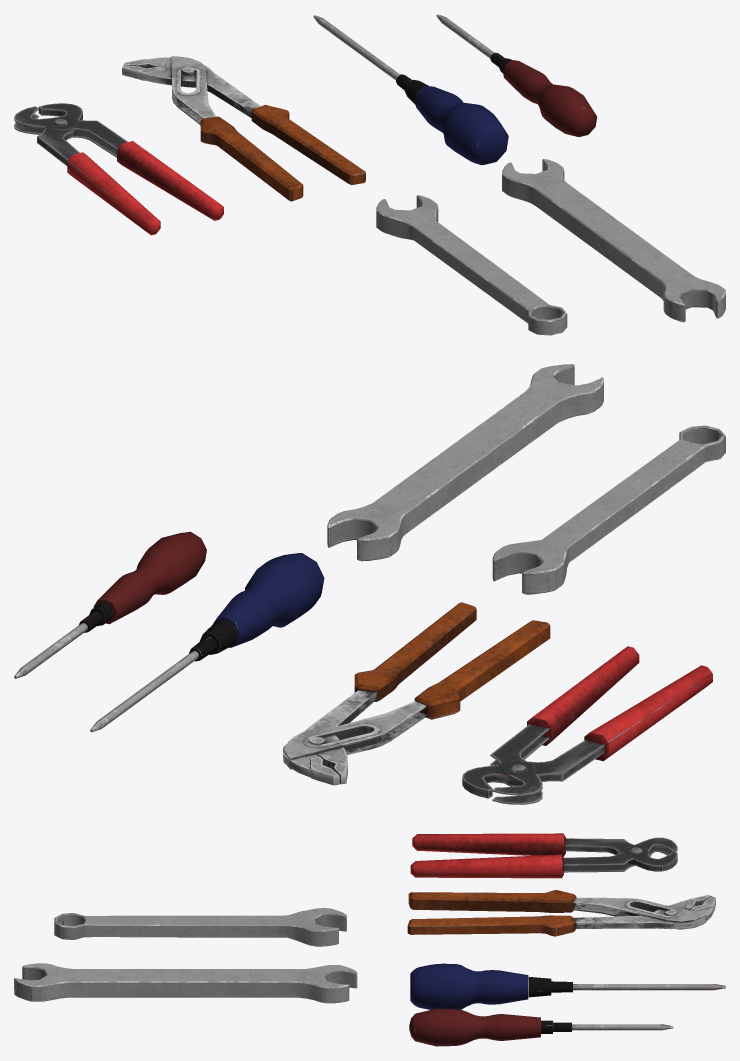
Rendered from tools_pack_2.glb.
3 views of the same model, one above another, from view 1: azimuth 30°, elevation 25°; view 2: azimuth 150°, elevation 25°; view 3: azimuth 270°, elevation 25° (orthographic). The views are drawn at different scales.
Visible parts, largest first — view 1: Cube, Cylinder, Cylinder.007, Cylinder.004, Cube.004, Cube.003, Cube.007, Cube.008, Cube.002, Cube.005, Cube.006, Cube.001 (+2 smaller); view 2: Cube, Cylinder, Cylinder.007, Cylinder.004, Cube.004, Cube.003, Cube.008, Cube.007, Cube.002, Cube.005, Cube.006, Cube.001 (+4 smaller); view 3: Cube, Cylinder, Cylinder.007, Cylinder.004, Cube.004, Cube.007, Cube.008, Cube.003, Cube.002, Cube.005, Cube.001, Cube.006 (+4 smaller).
Boxes of the visible parts, x1,y1,x2,y2 form: Cube: (502, 158, 725, 322); Cylinder: (376, 195, 567, 335); Cylinder.007: (414, 85, 508, 165); Cylinder.004: (502, 60, 597, 136); Cube.004: (200, 116, 303, 201); Cube.003: (251, 104, 365, 184); Cube.007: (117, 141, 223, 220); Cube.008: (67, 152, 160, 235); Cube.002: (122, 57, 260, 117); Cube.005: (14, 106, 127, 157); Cube.006: (37, 103, 82, 165); Cube.001: (171, 56, 216, 124); Cube: (327, 364, 603, 561); Cylinder: (492, 425, 725, 594); Cylinder.007: (212, 553, 324, 647); Cylinder.004: (93, 531, 206, 624); Cube.004: (414, 620, 550, 719); Cube.003: (354, 602, 476, 701); Cube.008: (584, 665, 712, 761); Cube.007: (527, 646, 639, 745); Cube.002: (283, 690, 377, 785); Cube.005: (490, 724, 549, 804); Cube.006: (462, 739, 604, 798); Cube.001: (284, 701, 426, 769); Cube: (14, 963, 357, 1003); Cylinder: (54, 908, 346, 946); Cylinder.007: (410, 963, 528, 1009); Cylinder.004: (409, 1008, 540, 1046); Cube.004: (408, 890, 576, 912); Cube.007: (410, 854, 563, 878); Cube.008: (412, 833, 565, 856); Cube.003: (407, 915, 575, 936); Cube.002: (573, 895, 715, 929); Cube.005: (563, 837, 677, 872); Cube.001: (573, 897, 706, 929); Cube.006: (564, 838, 677, 871).
Size of the model in its own units: 2.9 by 0.2929 by 4.45.
1 material, 1 textured.
